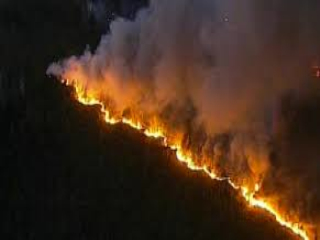fire: (151, 130, 288, 223), (61, 76, 147, 134)
smoke: (75, 15, 302, 121)
